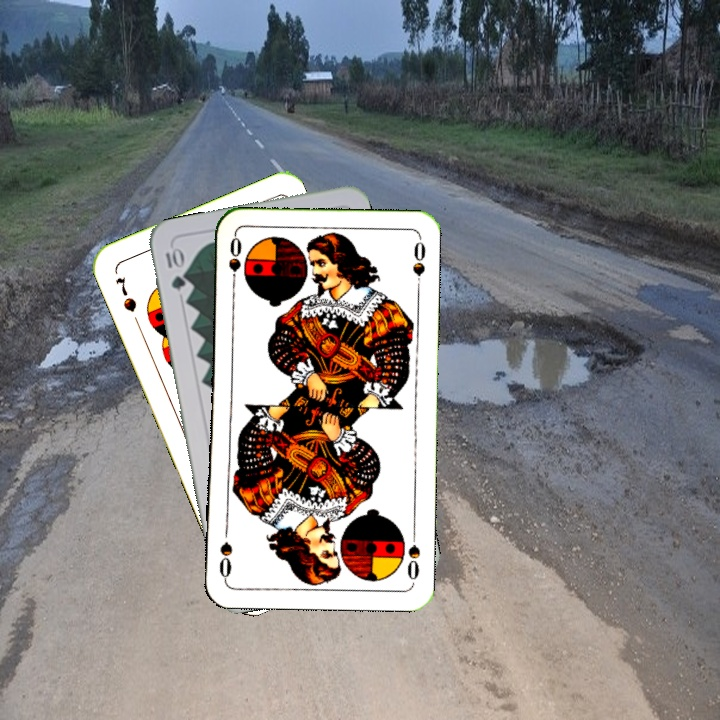G10: (161, 243, 188, 293)
S7: (111, 273, 139, 315)
SO: (224, 232, 244, 291), (403, 526, 423, 585)
